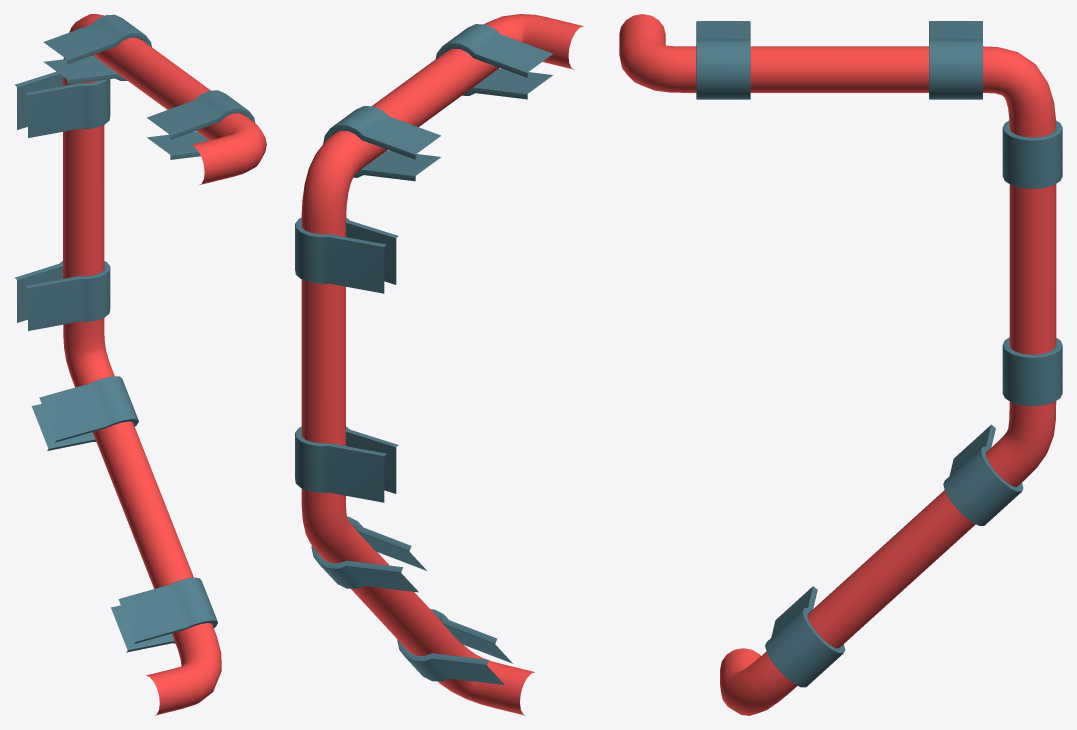
Rendered from City_3_Pipe_1.glb.
The picture shows the model from 3 angles, left to right: view 1: azimuth 30°, elevation 25°; view 2: azimuth 150°, elevation 25°; view 3: azimuth 270°, elevation 25°; orthographic projection. The views are drawn at different scales.
Parts seen in each view (by area): view 1: City_3_Pipe_1; view 2: City_3_Pipe_1; view 3: City_3_Pipe_1.
Part boxes in pixels (bbox=[...]): City_3_Pipe_1: bbox=[14, 14, 266, 715]; City_3_Pipe_1: bbox=[295, 14, 583, 715]; City_3_Pipe_1: bbox=[619, 14, 1062, 715].
Bounding box in the file's own units: 0.7141 × 4.81 × 2.83.
Materials: 1 (1 with a texture image).
